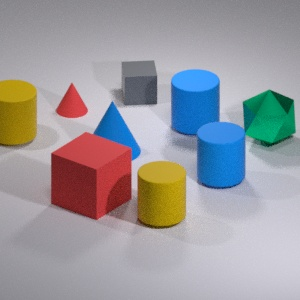lapphuong: (45, 132, 133, 217), (116, 55, 160, 108)
lucgiac: (237, 83, 297, 151)
non: (89, 99, 141, 159), (53, 79, 88, 120)
tru: (194, 121, 250, 197), (167, 66, 220, 139), (0, 77, 35, 149)
